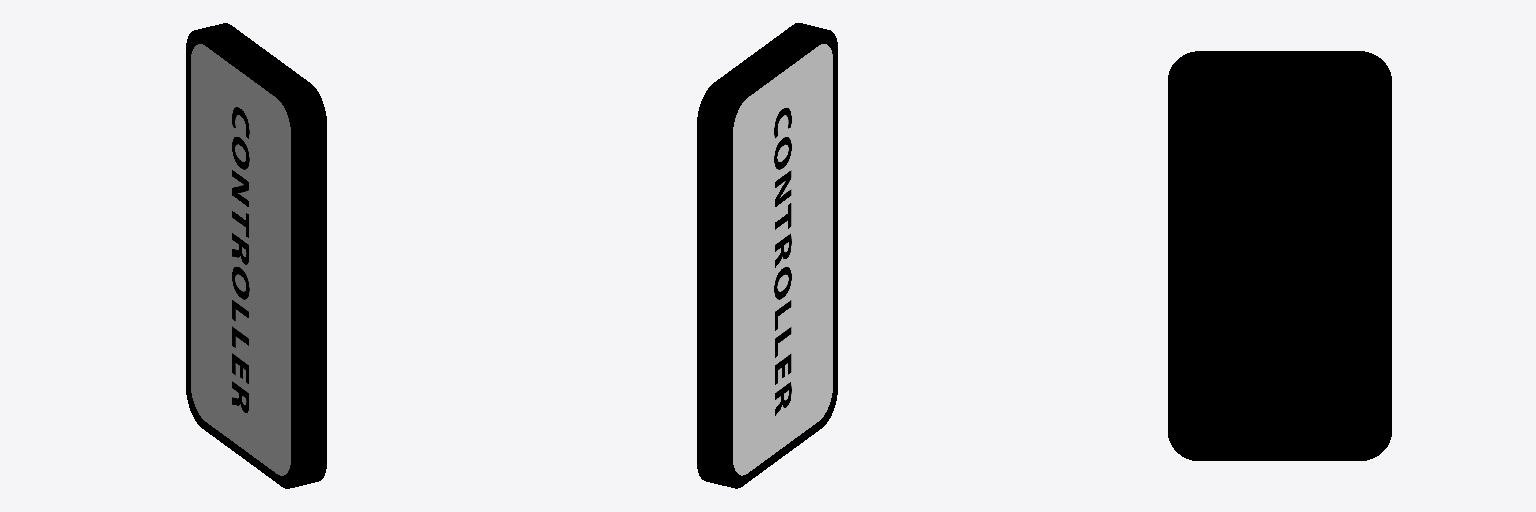
The picture shows the model from 3 angles: view 1: azimuth 30°, elevation 25°; view 2: azimuth 150°, elevation 25°; view 3: azimuth 270°, elevation 25°; orthographic projection.
Visible parts, largest first — view 1: Extrude, Phone; view 2: Extrude, Phone; view 3: Phone.
Part boxes in pixels (x1,y1,x2,y2): Extrude: (191,44,290,475); Phone: (186,23,326,488); Extrude: (733,44,832,475); Phone: (697,23,837,488); Phone: (1168,51,1391,460).
Size of the model in its own units: 31 by 390 by 200.
2 materials, 1 textured.